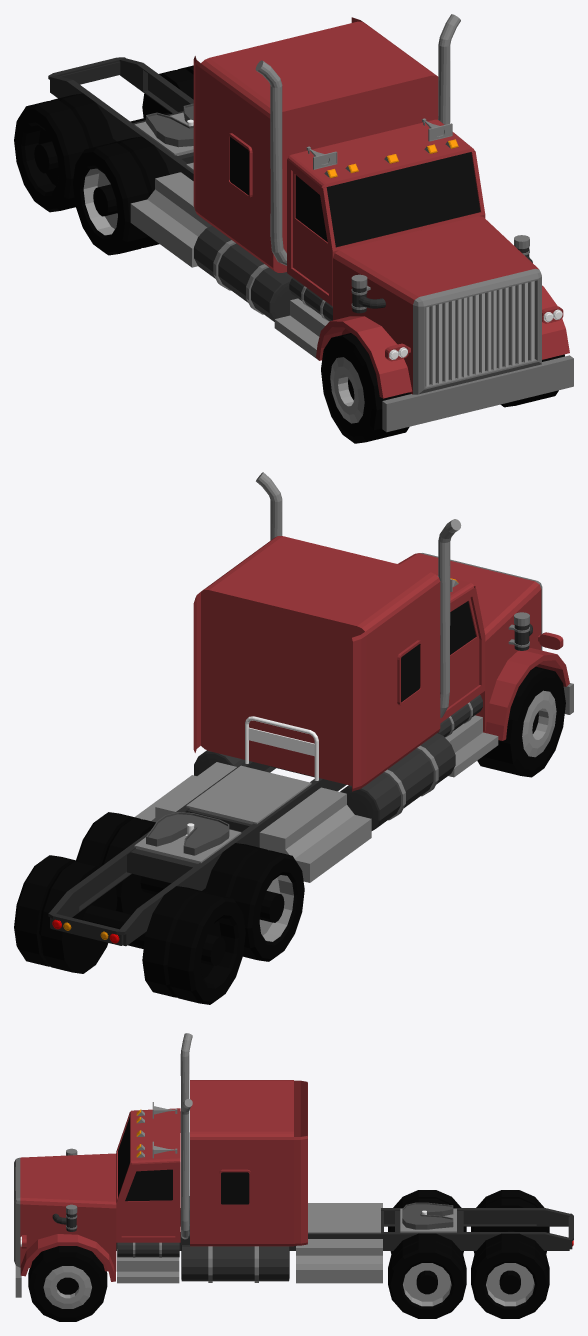
Rendered from semi.glb.
3 renders of one model, top to bottom at view 1: azimuth 30°, elevation 25°; view 2: azimuth 150°, elevation 25°; view 3: azimuth 270°, elevation 25°, orthographic. The views are drawn at different scales.
Parts seen in each view (by area): view 1: Truck_1, Back Tires 2_2, Back Tires 1_3, Front Tires_0; view 2: Truck_1, Back Tires 2_2, Back Tires 1_3, Front Tires_0; view 3: Truck_1, Back Tires 2_2, Back Tires 1_3, Front Tires_0.
Boxes of the visible parts, x1=… form: Truck_1: x1=48, y1=14, x2=573, y2=432; Back Tires 2_2: x1=14, y1=65, x2=193, y2=212; Back Tires 1_3: x1=73, y1=136, x2=169, y2=255; Front Tires_0: x1=321, y1=333, x2=564, y2=443; Truck_1: x1=48, y1=472, x2=573, y2=946; Back Tires 2_2: x1=14, y1=855, x2=245, y2=1004; Back Tires 1_3: x1=76, y1=812, x2=304, y2=961; Front Tires_0: x1=477, y1=666, x2=565, y2=777; Truck_1: x1=14, y1=1033, x2=573, y2=1297; Back Tires 2_2: x1=471, y1=1190, x2=549, y2=1318; Back Tires 1_3: x1=388, y1=1190, x2=466, y2=1318; Front Tires_0: x1=28, y1=1246, x2=107, y2=1321.
Size of the model in its own units: 4.43 by 6.58 by 14.97.
